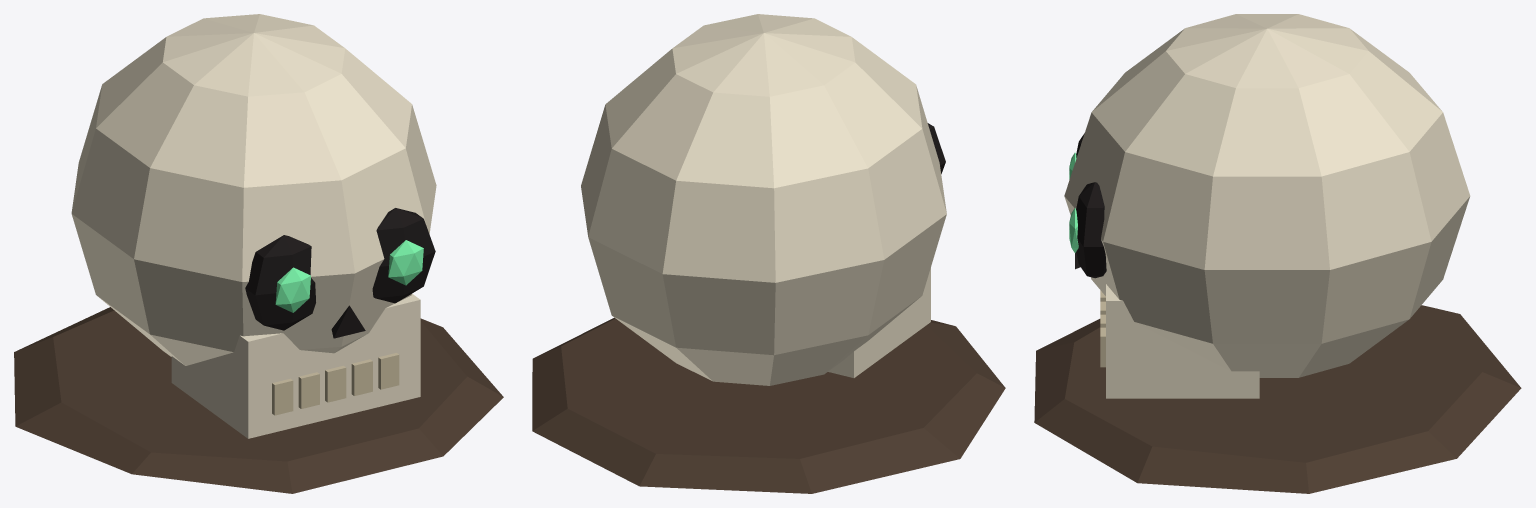
The model's file is BigSkull.fbx.
3 views of the same model, side by side, from view 1: azimuth 30°, elevation 25°; view 2: azimuth 150°, elevation 25°; view 3: azimuth 270°, elevation 25° (orthographic).
Visible parts, largest first — view 1: BigSkull, BigSkull_Glow; view 2: BigSkull; view 3: BigSkull.
Boxes of the visible parts, x1,y1,x2,y2 form: BigSkull: [14, 14, 503, 493]; BigSkull_Glow: [275, 240, 423, 312]; BigSkull: [532, 14, 1005, 493]; BigSkull: [1034, 14, 1521, 493].
Bounding box in the file's own units: 516 × 418 × 507.
1 material, 1 textured.
